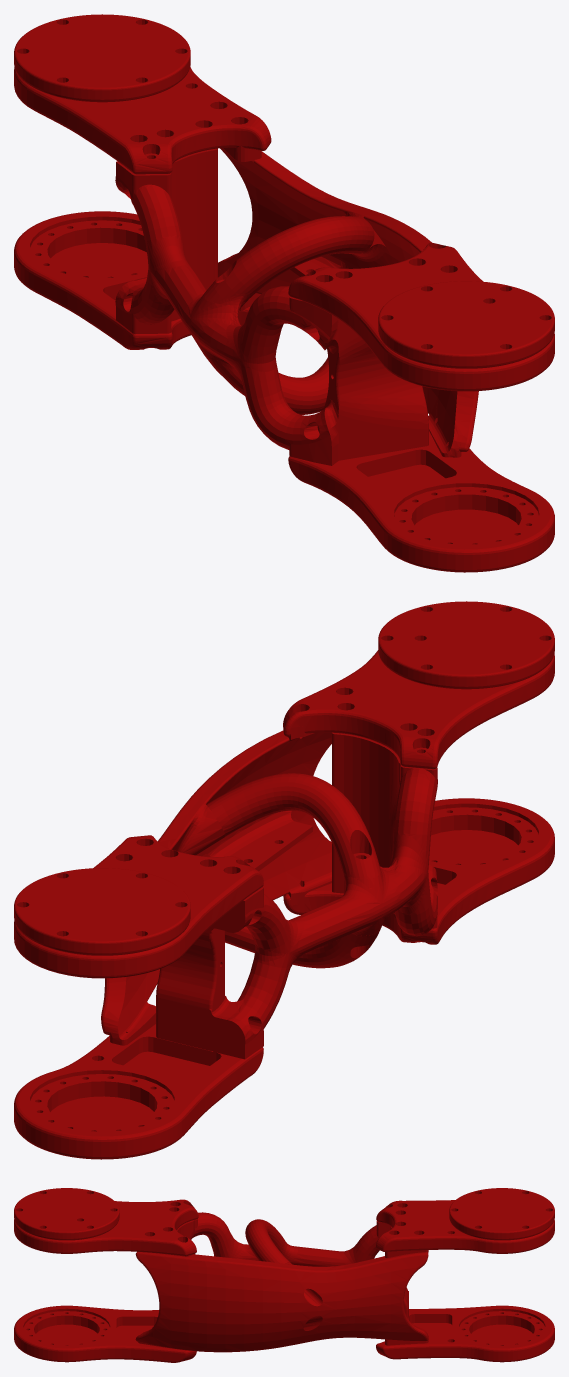
The model's file is Knee_L_Link.obj.
The picture shows the model from 3 angles, top to bottom: view 1: azimuth 30°, elevation 25°; view 2: azimuth 150°, elevation 25°; view 3: azimuth 270°, elevation 25°; orthographic projection. The views are drawn at different scales.
Visible parts, largest first — view 1: Knee_L_Link; view 2: Knee_L_Link; view 3: Knee_L_Link.
Boxes of the visible parts, x1,y1,x2,y2 form: Knee_L_Link: (14, 14, 554, 572); Knee_L_Link: (14, 601, 554, 1159); Knee_L_Link: (14, 1188, 554, 1362).
Size of the model in its own units: 0.1192 by 0.116 by 0.435.
